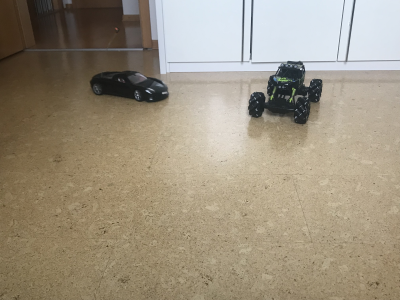remote control car: (246, 58, 323, 125)
